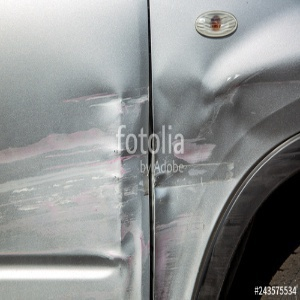door_scratch: (1, 158, 134, 268)
